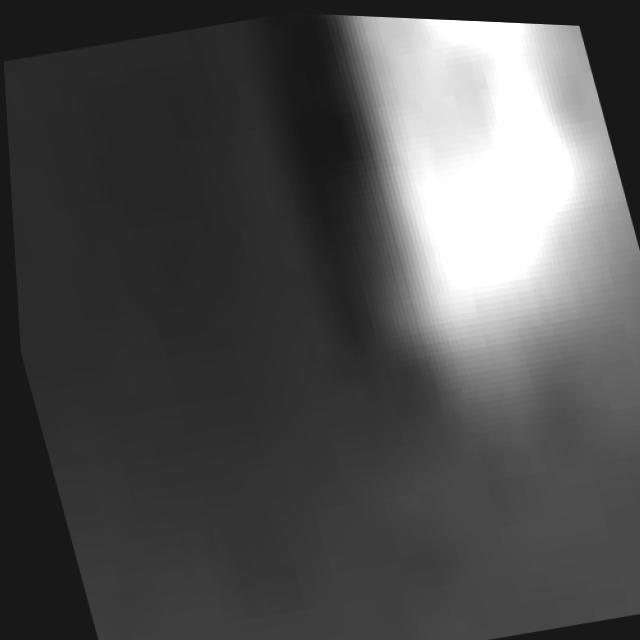person: (272, 10, 640, 438)
